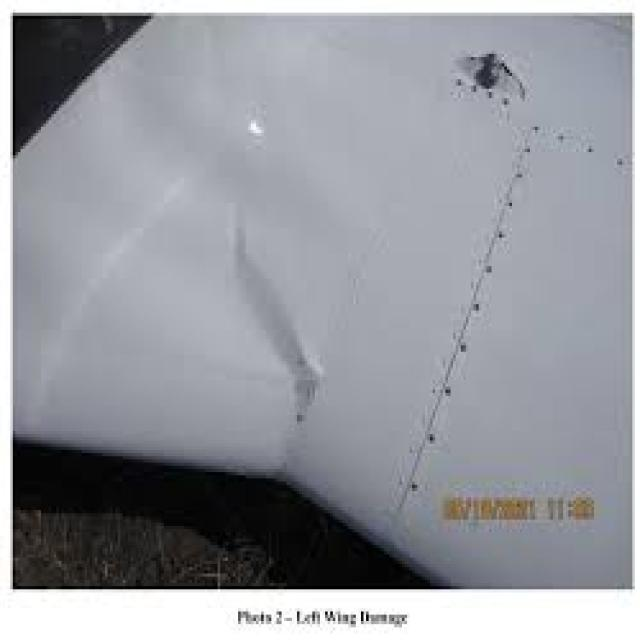Dent: (231, 208, 325, 424)
